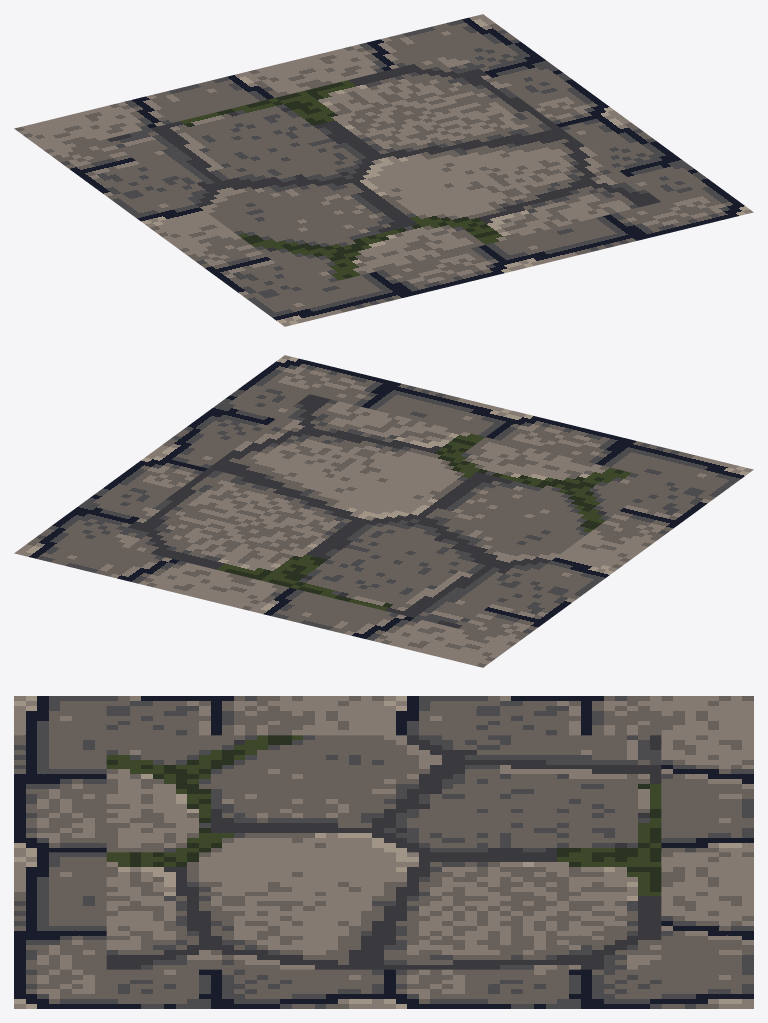
The model's file is dgn.floor__border.glb.
3 views of the same model, one above another, from view 1: azimuth 30°, elevation 25°; view 2: azimuth 150°, elevation 25°; view 3: azimuth 270°, elevation 25° (orthographic). The views are drawn at different scales.
Parts seen in each view (by area): view 1: kit_shell_floor; view 2: kit_shell_floor; view 3: kit_shell_floor.
Part boxes in pixels (box(x1,y1,x2,y2)): kit_shell_floor: box(14, 14, 753, 326); kit_shell_floor: box(14, 355, 753, 667); kit_shell_floor: box(14, 696, 753, 1008).
Bounding box in the file's own units: 4 × 0 × 4.
Materials: 2 (2 with a texture image).
